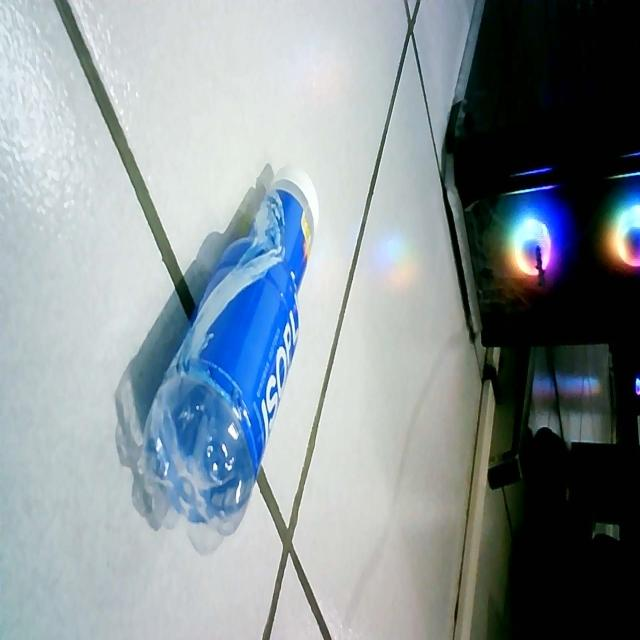botol: (140, 110, 331, 548)
